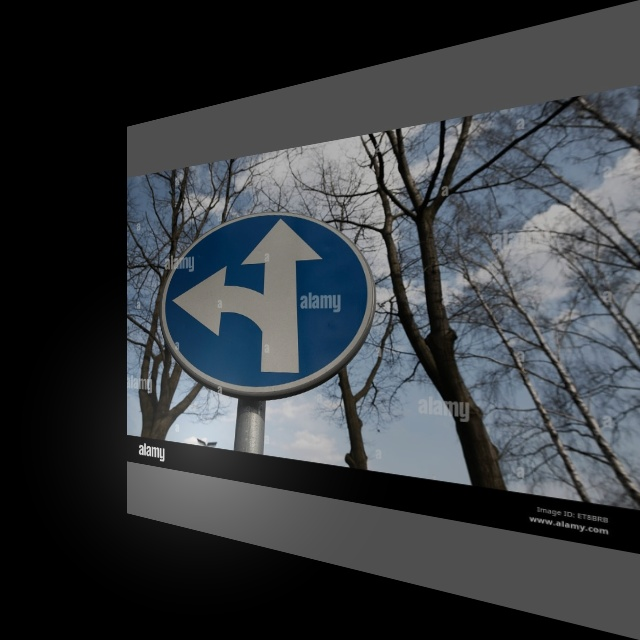Compulsory_Ahead_or_Turn_Left: (156, 195, 373, 404)
